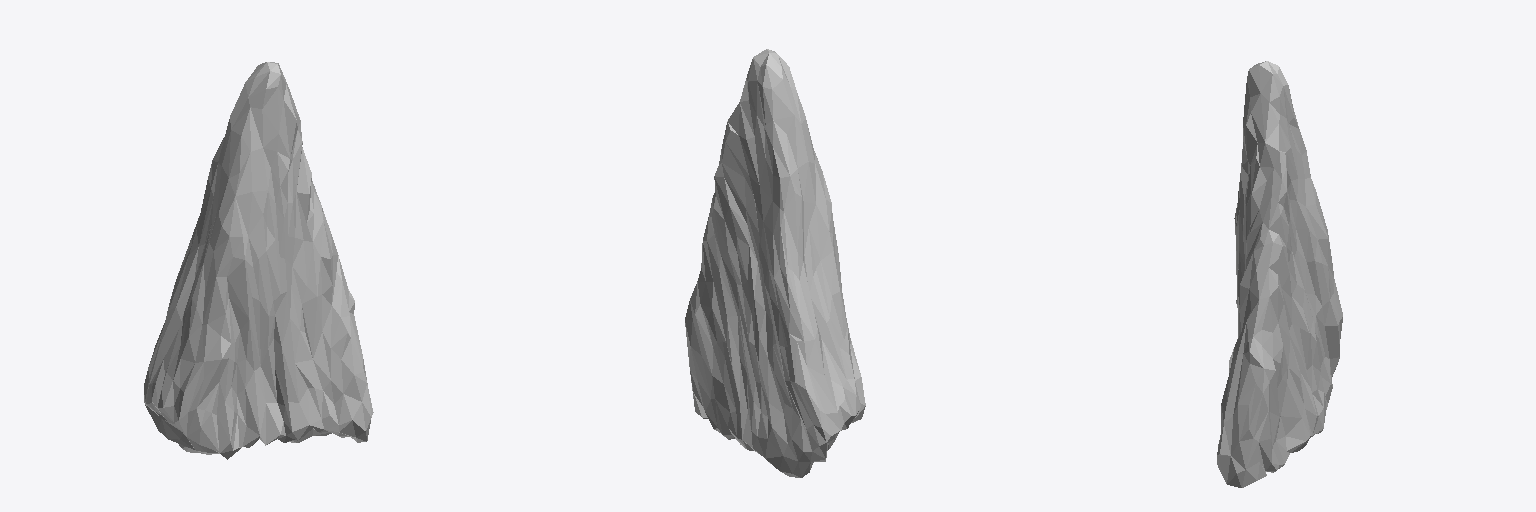
Rendered from CL_drums_dir1_LOD2.obj.
3 views of the same model, side by side, from view 1: azimuth 30°, elevation 25°; view 2: azimuth 150°, elevation 25°; view 3: azimuth 270°, elevation 25° (orthographic).
Size of the model in its own units: 0.5001 by 1 by 0.2919.